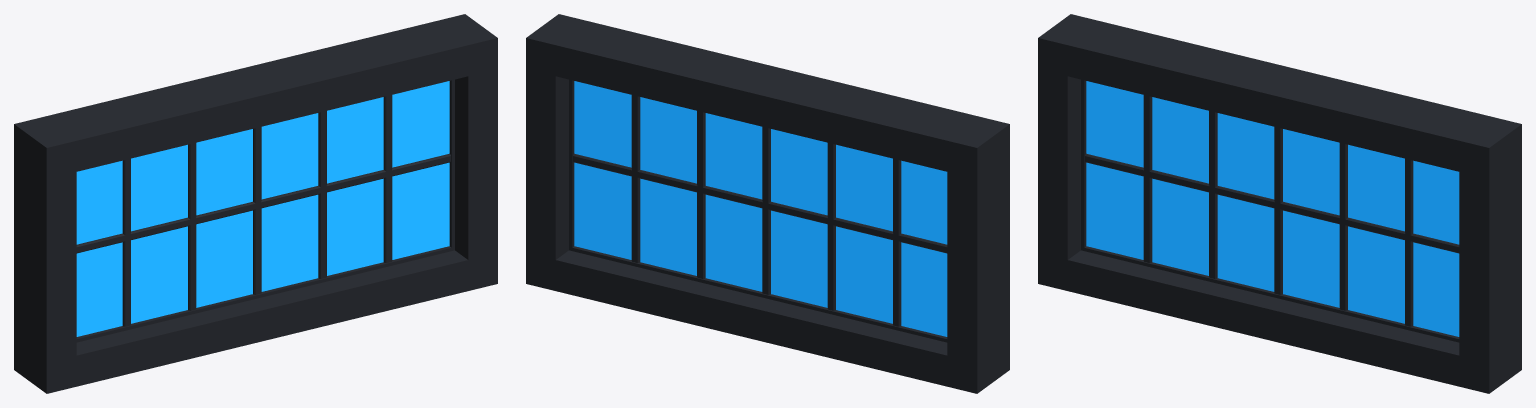
The model's file is janela_larga_grade_6x2_preta.glb.
3 renders of one model, left to right at view 1: azimuth 30°, elevation 25°; view 2: azimuth 150°, elevation 25°; view 3: azimuth 330°, elevation 25°, orthographic.
Visible parts, largest first — view 1: janela_larga_grade_6x2_preta; view 2: janela_larga_grade_6x2_preta; view 3: janela_larga_grade_6x2_preta.
Part boxes in pixels (bbox=[...]): janela_larga_grade_6x2_preta: bbox=[14, 14, 497, 393]; janela_larga_grade_6x2_preta: bbox=[526, 14, 1009, 393]; janela_larga_grade_6x2_preta: bbox=[1038, 14, 1521, 393].
Bounding box in the file's own units: 1.67 × 0.87 × 0.21.
